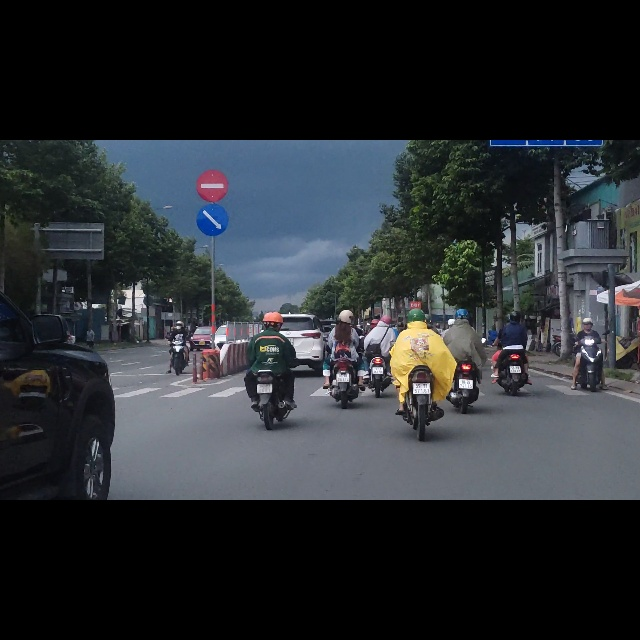bien_chi_dan: (196, 50, 229, 111), (197, 112, 229, 172)
